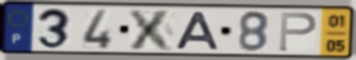3: (36, 6, 75, 51)
4: (80, 8, 114, 51)
8: (237, 10, 271, 54)
A: (173, 11, 221, 51)
P: (277, 11, 319, 53)
X: (127, 8, 177, 52)
